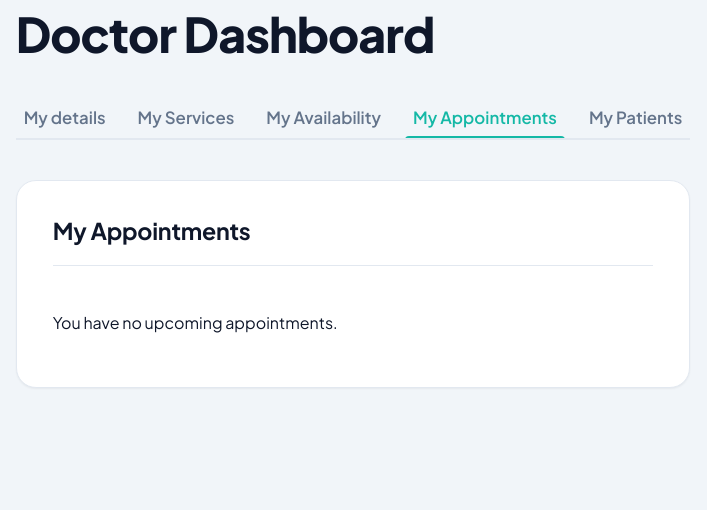
Test: DoctorDashboardPage › switching to availability tab shows Manage Availability button
Click the button "My Availability": (324, 117) [258,95,389,140]
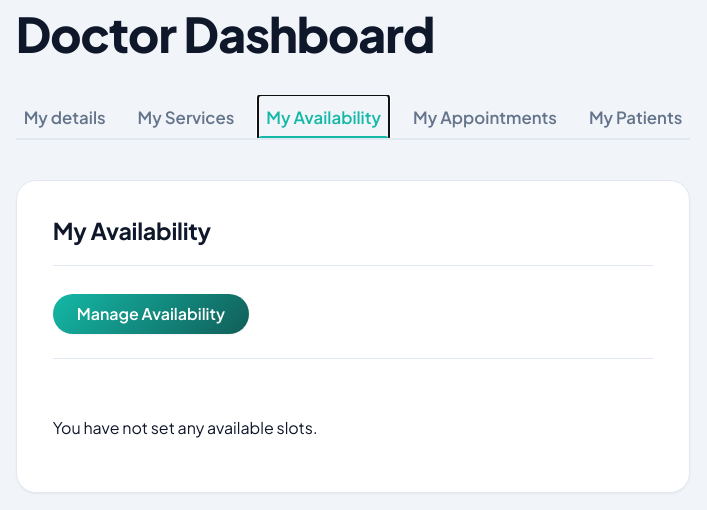
expect the button "Manage Availability" is shown: met, box [53,294,249,334]
